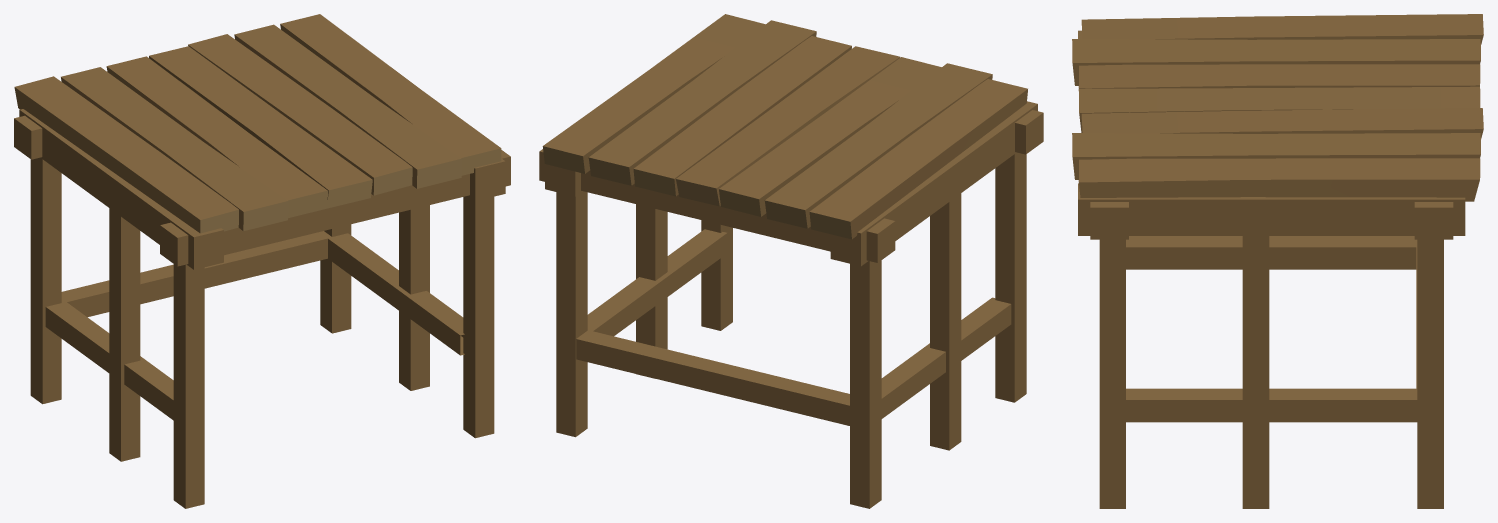
The model's file is Dock.glb.
The picture shows the model from 3 angles, left to right: view 1: azimuth 30°, elevation 25°; view 2: azimuth 150°, elevation 25°; view 3: azimuth 270°, elevation 25°; orthographic projection. The views are drawn at different scales.
Parts seen in each view (by area): view 1: Dock; view 2: Dock; view 3: Dock.
Boxes of the visible parts, box(x1,y1,x2,y2) form: Dock: box(14, 14, 510, 508); Dock: box(539, 14, 1043, 508); Dock: box(1072, 14, 1483, 508).
Size of the model in its own units: 0.6765 by 0.5741 by 0.6513.
